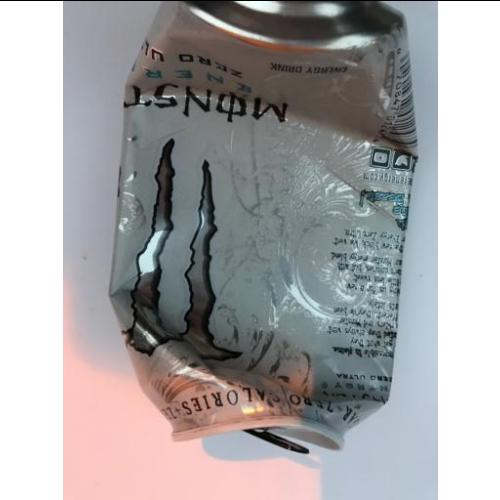metal: (111, 0, 420, 446)
